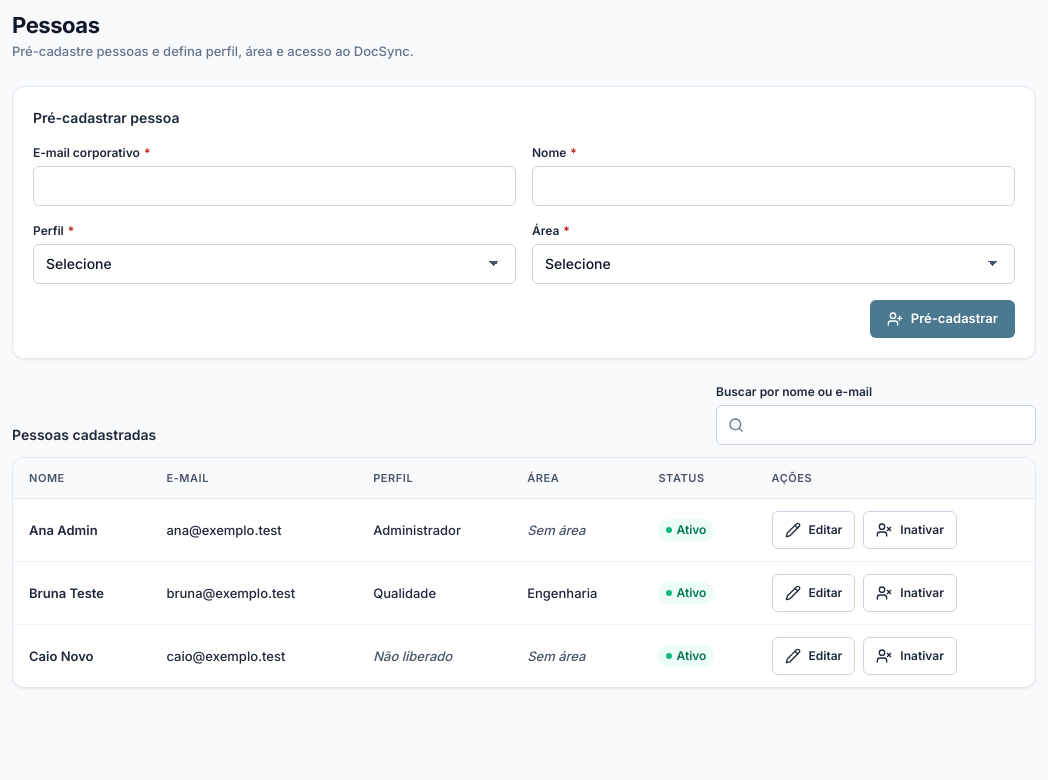
Test: TelaPessoas › filtra por nome ou e-mail, sem diferenciar acentos
Expected: the text "Bruna Teste" is shown, [13,562,150,625]
In the search field labelled "Buscar por nome ou e-mail": (876, 425) [716,405,1036,445], type "caio@"
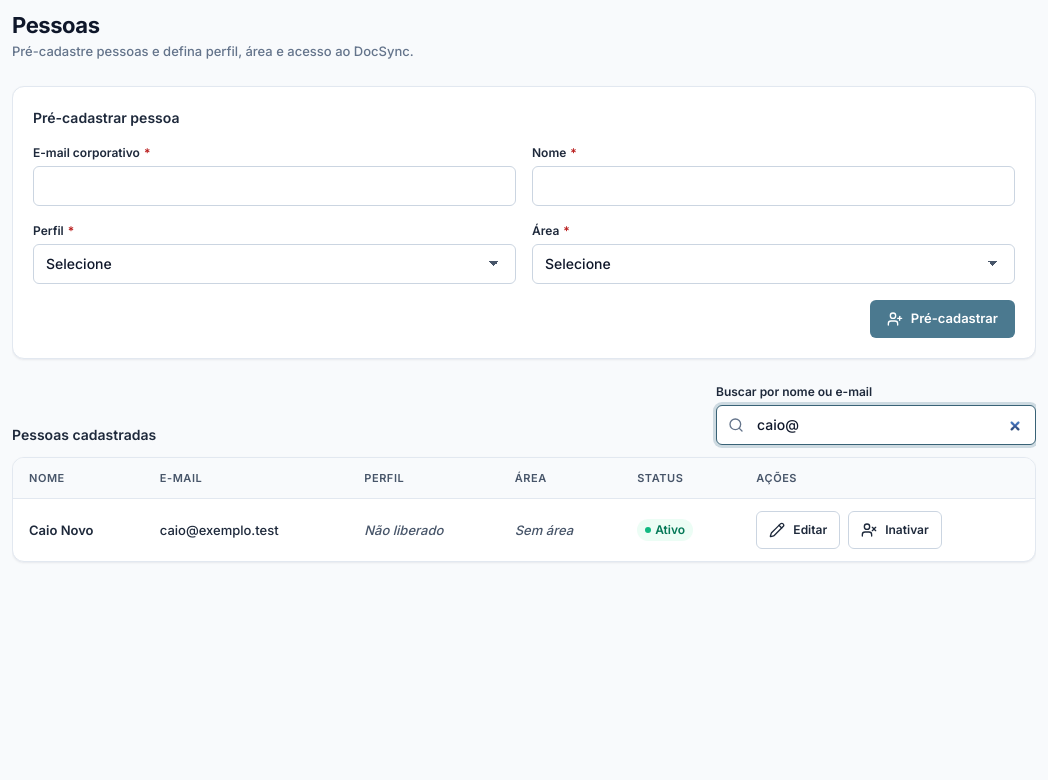
Expected: the text "Caio Novo" is shown, [13,499,144,561]
Expected: the text "Bruna Teste" is gone
Replace the text in the search field labelled "Buscar por nome ou e-mail" with "xyz": (876, 425) [716,405,1036,445]
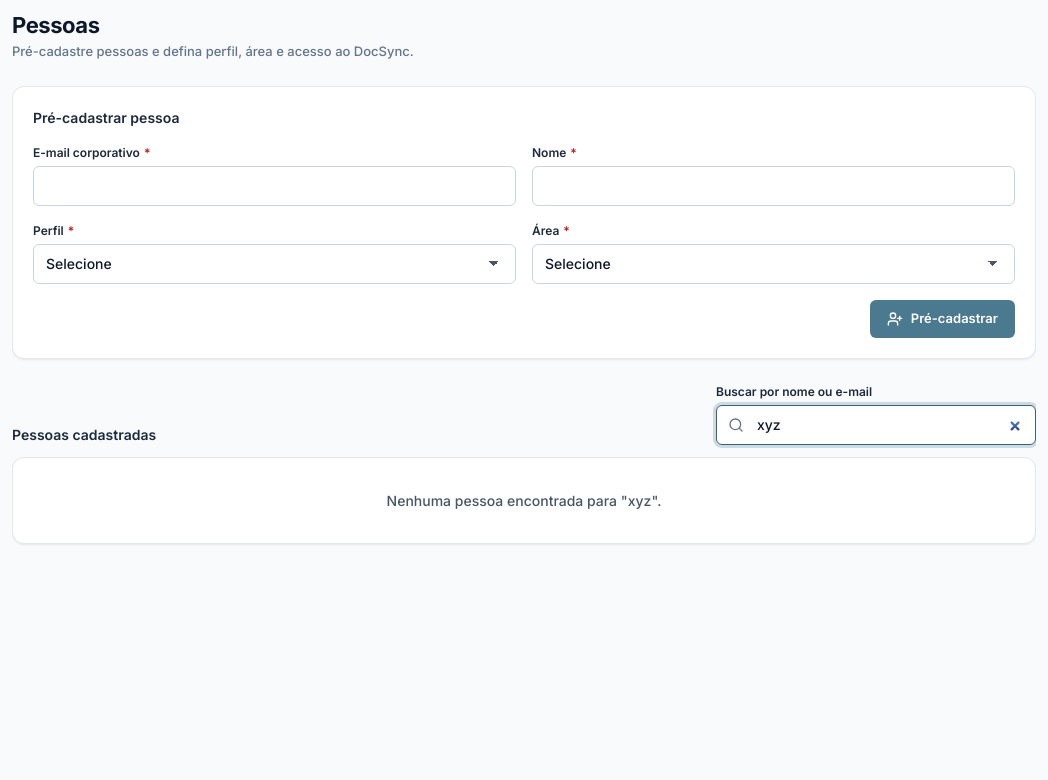
Expected: the text "Nenhuma pessoa encontrada para \"xyz\"." is shown, [387,492,661,509]
